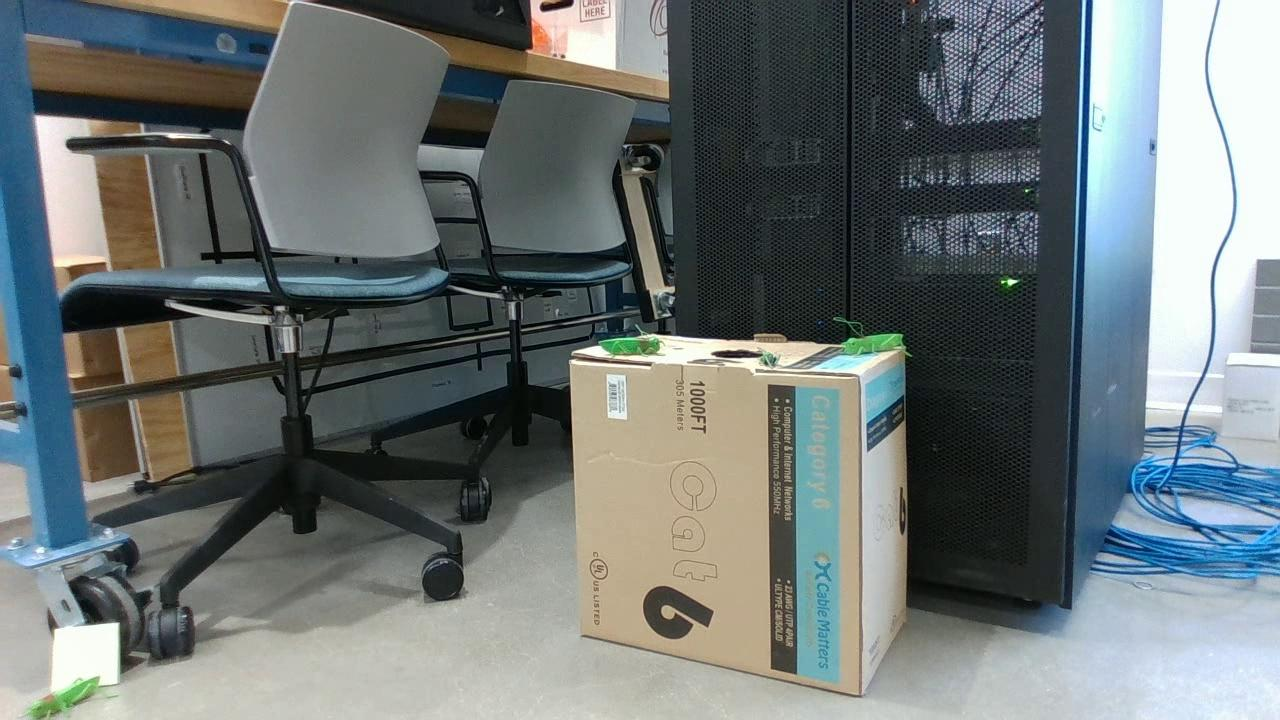grasshopper: (27, 677, 100, 717), (841, 334, 903, 355), (600, 338, 660, 359)
